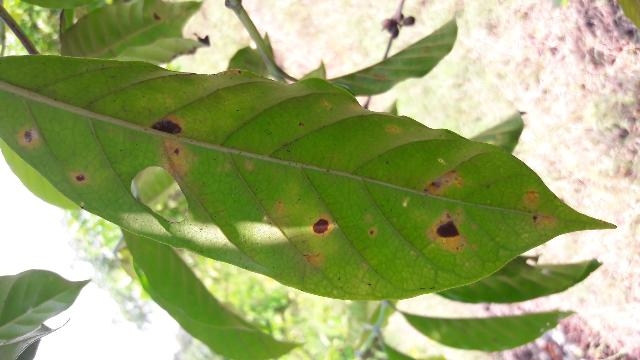rust_level_2: (0, 51, 597, 299)
